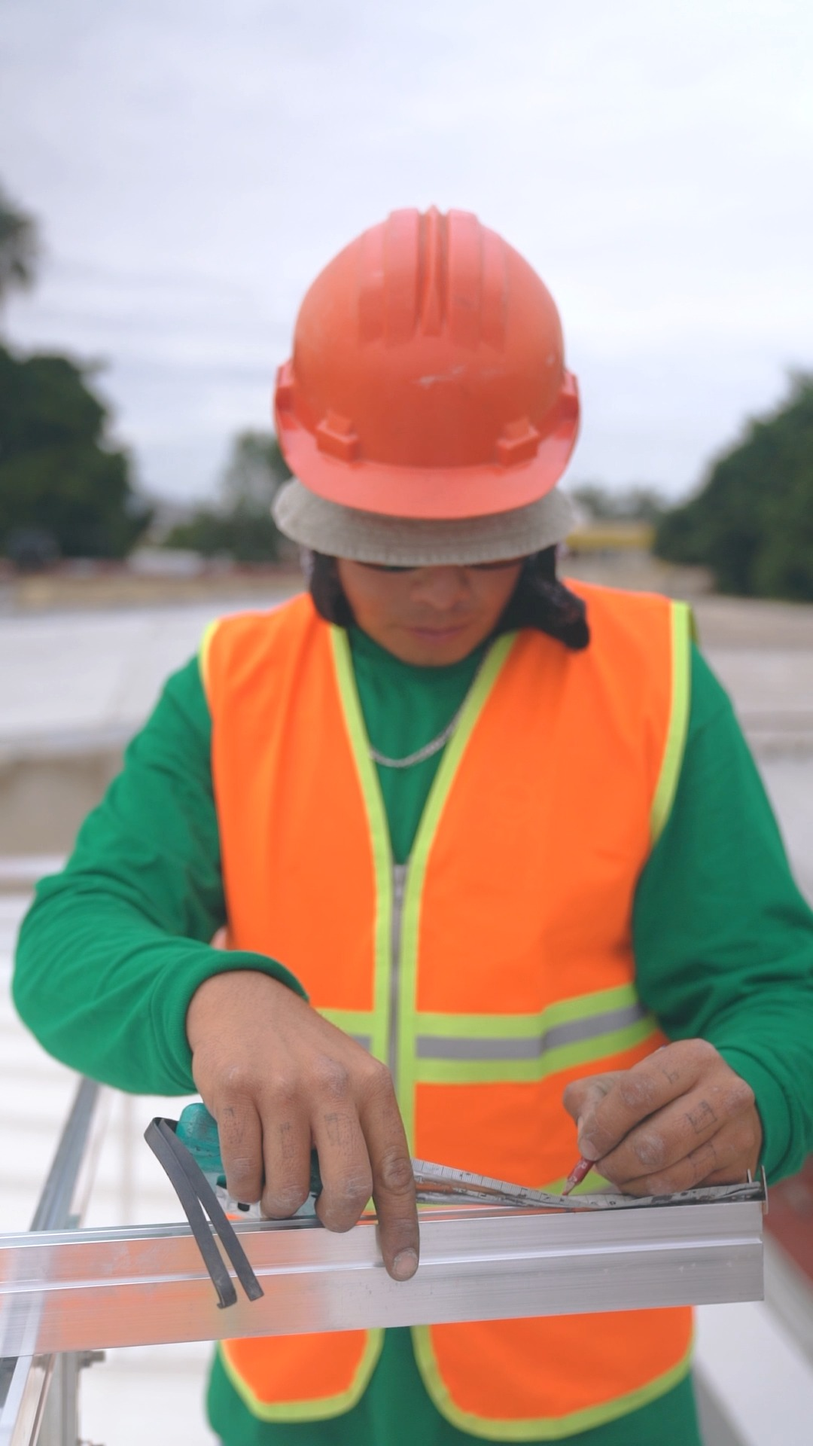No-gloves: (181, 961, 441, 1287), (541, 999, 785, 1243)
